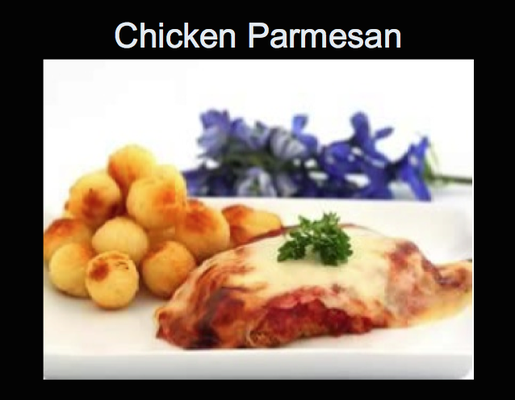curry: (276, 211, 353, 266)
